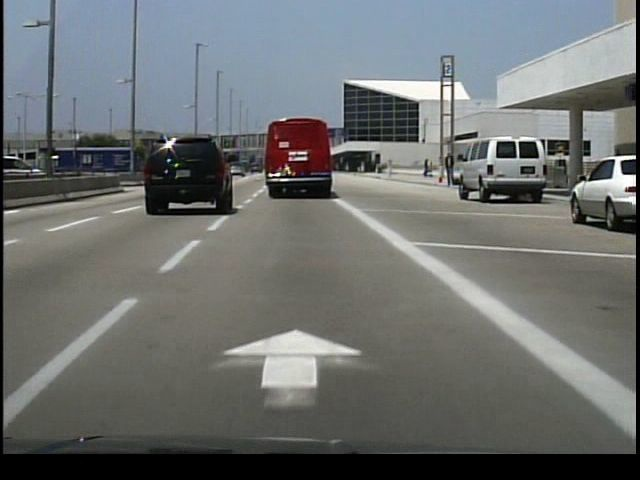person: (442, 152, 456, 192)
